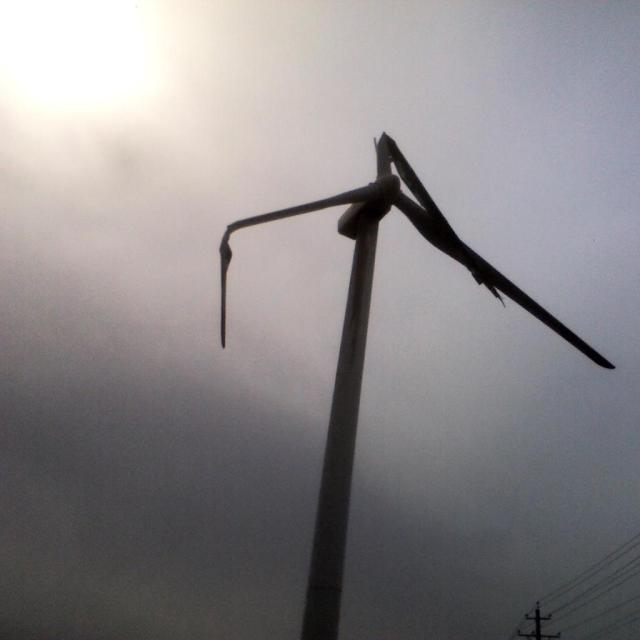crack: (370, 125, 496, 298), (206, 215, 250, 351)
